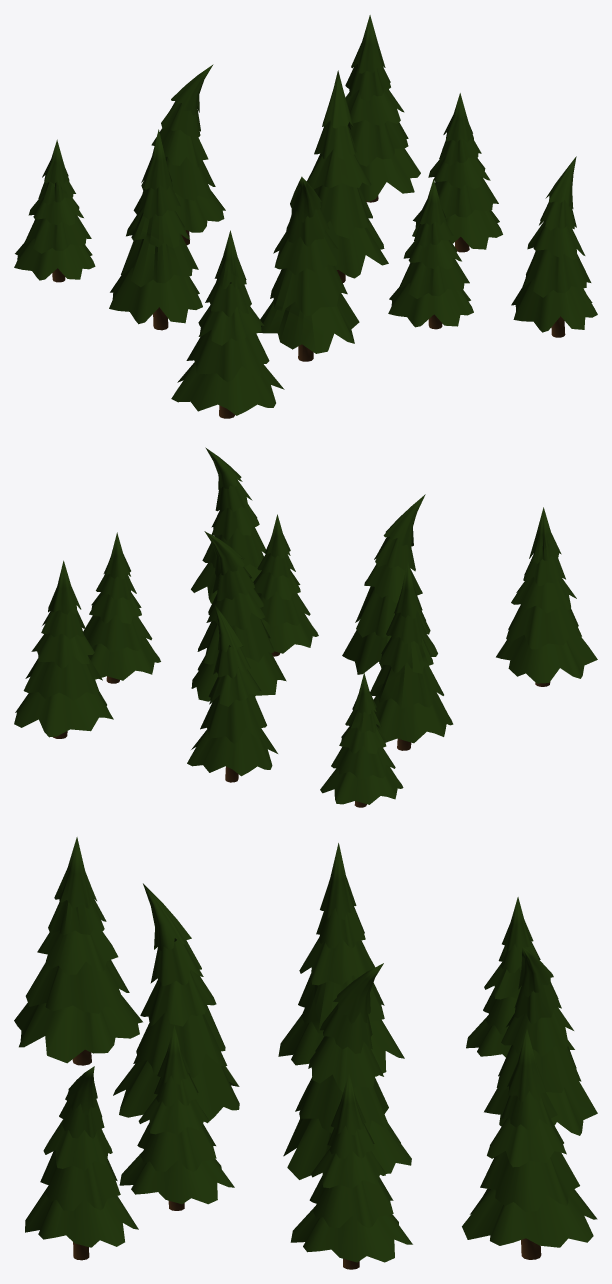
File: Trees.fbx
3 renders of one model, top to bottom at view 1: azimuth 30°, elevation 25°; view 2: azimuth 150°, elevation 25°; view 3: azimuth 270°, elevation 25°, orthographic. The views are drawn at different scales.
Visible parts, largest first — view 1: Object002, Object001, Object006, Object009, Object010, Object007, Object003, Object008, Object004, Object005; view 2: Object007, Object001, Object006, Object005, Object010, Object008, Object002, Object004, Object003, Object009; view 3: Object007, Object001, Object002, Object010, Object009, Object008, Object003, Object006, Object005, Object004.
Boxes of the visible parts, x1=… form: Object002: x1=259, y1=176, x2=359, y2=361; Object001: x1=171, y1=230, x2=284, y2=418; Object006: x1=109, y1=129, x2=202, y2=330; Object009: x1=511, y1=156, x2=597, y2=337; Object010: x1=306, y1=70, x2=388, y2=282; Object007: x1=345, y1=15, x2=420, y2=202; Object003: x1=388, y1=179, x2=473, y2=329; Object008: x1=412, y1=93, x2=502, y2=252; Object004: x1=14, y1=139, x2=95, y2=282; Object005: x1=133, y1=64, x2=225, y2=245; Object007: x1=14, y1=560, x2=113, y2=738; Object001: x1=496, y1=507, x2=597, y2=686; Object006: x1=370, y1=561, x2=453, y2=750; Object005: x1=187, y1=604, x2=277, y2=782; Object010: x1=191, y1=531, x2=286, y2=701; Object008: x1=83, y1=532, x2=160, y2=683; Object002: x1=342, y1=494, x2=437, y2=674; Object004: x1=320, y1=672, x2=403, y2=807; Object003: x1=253, y1=514, x2=318, y2=656; Object009: x1=191, y1=447, x2=265, y2=603; Object007: x1=462, y1=1029, x2=597, y2=1259; Object001: x1=14, y1=837, x2=142, y2=1065; Object002: x1=113, y1=883, x2=239, y2=1123; Object010: x1=283, y1=963, x2=411, y2=1179; Object009: x1=25, y1=1066, x2=138, y2=1260; Object008: x1=290, y1=1073, x2=412, y2=1269; Object003: x1=119, y1=1025, x2=234, y2=1210; Object006: x1=278, y1=843, x2=404, y2=1076; Object005: x1=484, y1=947, x2=597, y2=1135; Object004: x1=466, y1=897, x2=574, y2=1057.
Bounding box in the file's own units: 1.78 × 0.7882 × 1.73.
